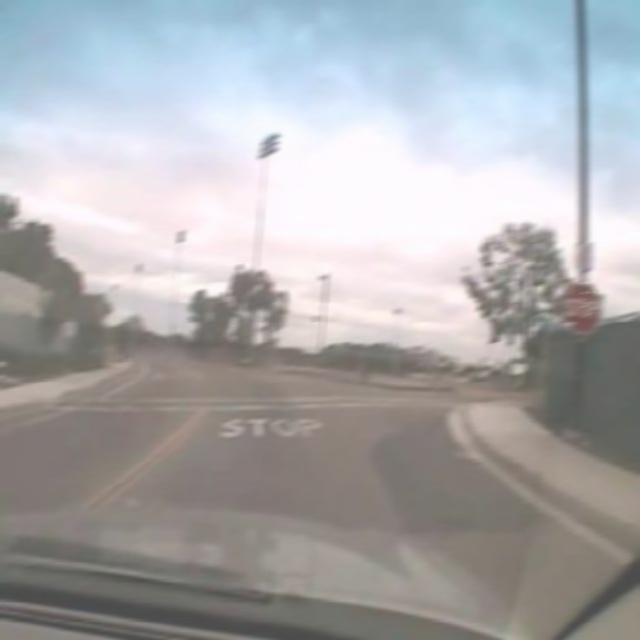stop: (562, 280, 600, 332)
